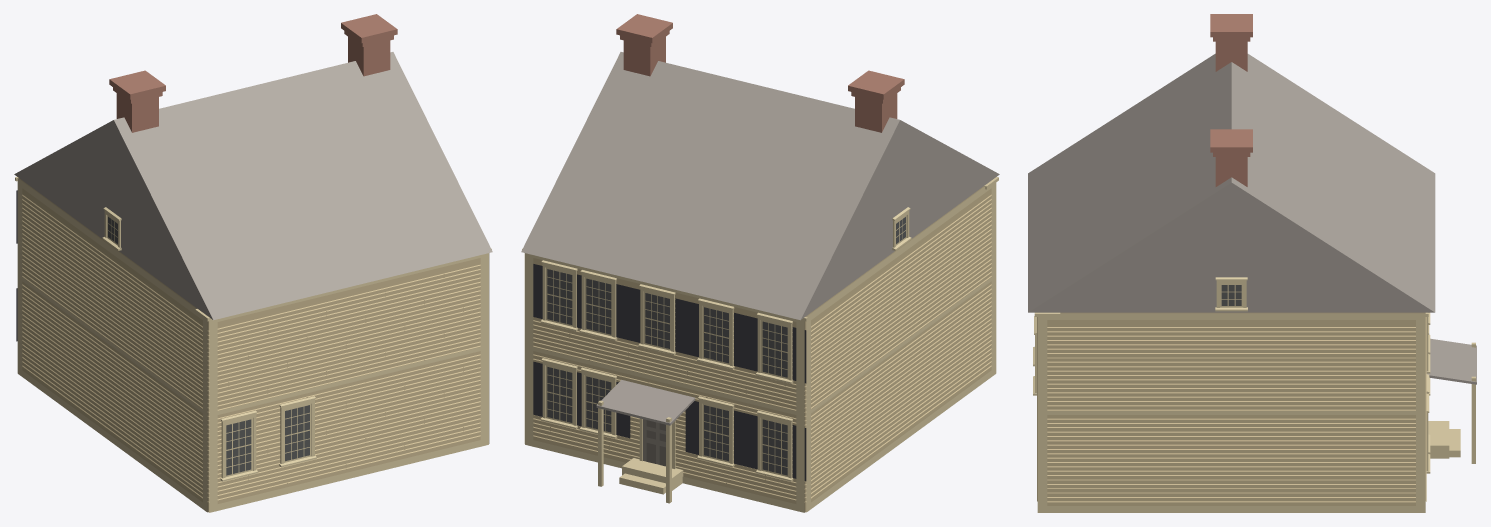
Rendered from recon_1835_blk_washington_lasalle_h2_01__inferred_1835.glb.
The picture shows the model from 3 angles, left to right: view 1: azimuth 30°, elevation 25°; view 2: azimuth 150°, elevation 25°; view 3: azimuth 270°, elevation 25°; orthographic projection. The views are drawn at different scales.
Visible parts, largest first — view 1: recon_1835_blk_washington_lasalle_h2_01__inferred_1835; view 2: recon_1835_blk_washington_lasalle_h2_01__inferred_1835; view 3: recon_1835_blk_washington_lasalle_h2_01__inferred_1835.
Boxes of the visible parts, <box> form: recon_1835_blk_washington_lasalle_h2_01__inferred_1835: <box>14,14,492,512</box>; recon_1835_blk_washington_lasalle_h2_01__inferred_1835: <box>521,14,999,512</box>; recon_1835_blk_washington_lasalle_h2_01__inferred_1835: <box>1028,14,1476,512</box>.
Size of the model in its own units: 8.92 by 10.56 by 11.86.
